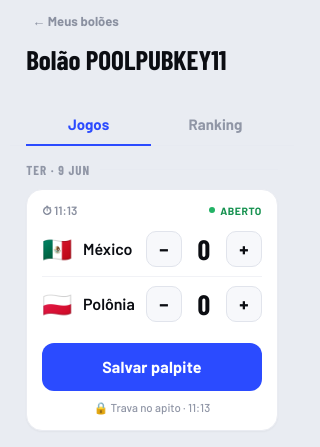
Test: PoolPage › commit flow: derives salt, computes commitment, sends tx, posts pick
This screenshot has width=320, height=447.
Click the button named "México vs Polônia home goals plus" at coordinates (244, 248), box [226,230,262,266]
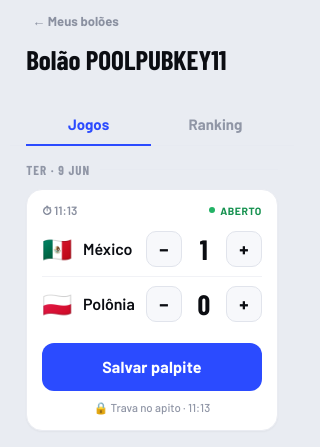
Click the button named "México vs Polônia home goals plus" at coordinates (244, 248), box [226,230,262,266]
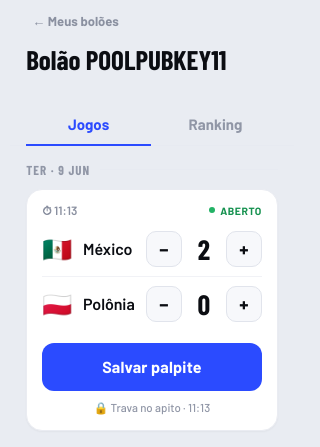
Click the button named "México vs Polônia away goals plus" at coordinates (244, 304), box [226,286,262,322]
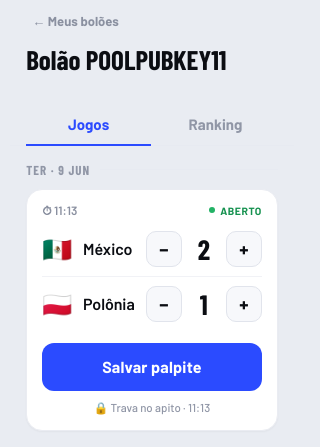
Click the button "Salvar palpite" at coordinates (152, 366), box [42,342,262,390]
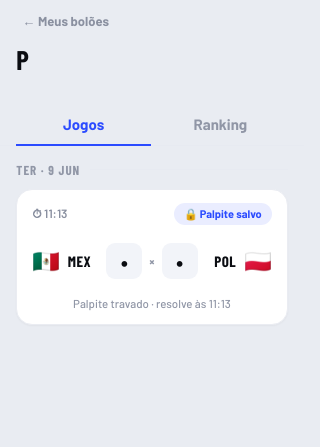
Expected: the text "🔒 Palpite salvo" is shown, [174,202,272,224]
